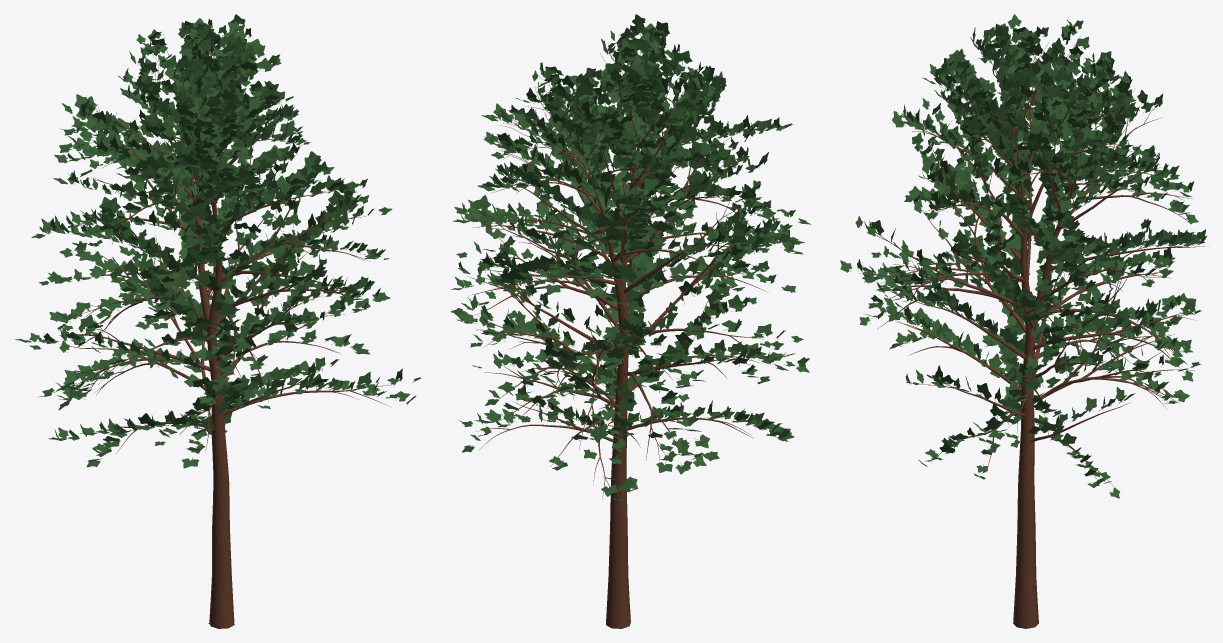
The model's file is tree hike.fbx.
3 renders of one model, left to right at view 1: azimuth 30°, elevation 25°; view 2: azimuth 150°, elevation 25°; view 3: azimuth 270°, elevation 25°, orthographic.
Parts seen in each view (by area): view 1: tree; view 2: tree; view 3: tree.
Boxes of the visible parts, bbox=[...] form: tree: bbox=[58, 34, 394, 628]; tree: bbox=[467, 28, 768, 628]; tree: bbox=[859, 36, 1208, 628].
Size of the model in its own units: 960 by 1648 by 920.
